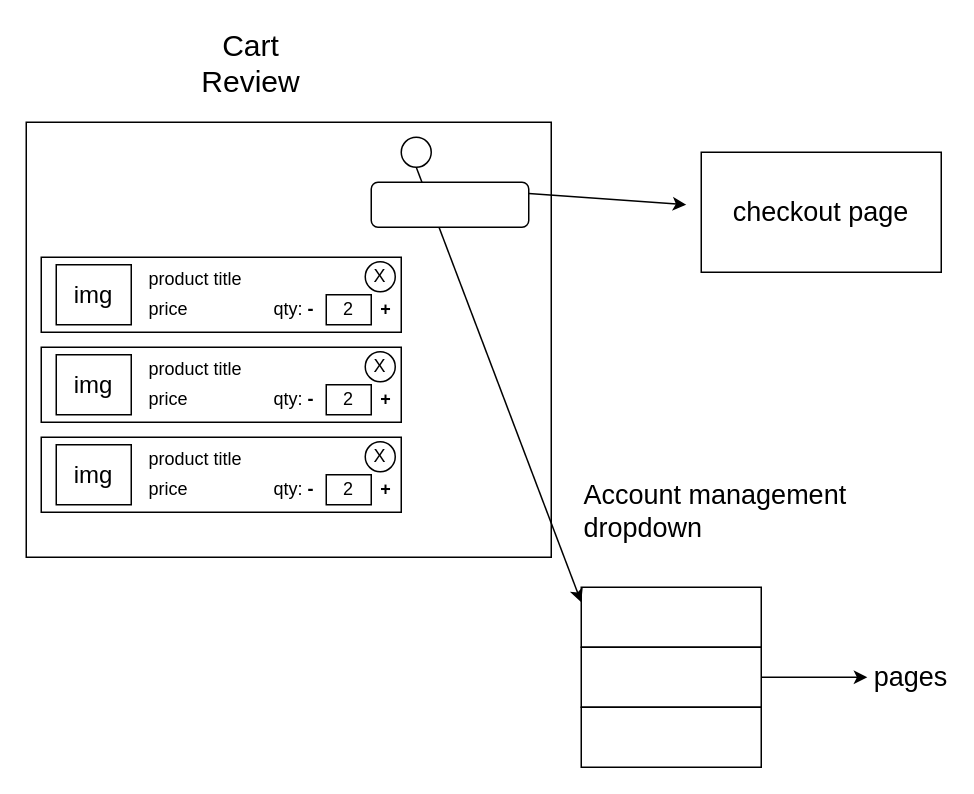
Some shapes in this 974 by 794 pixel diagram are drawn without their labels. Each missing label, with the box of its shape:
checkout: (370, 181, 529, 227)
order history: (580, 706, 761, 767)
payment methods: (580, 646, 761, 707)
profile: (580, 586, 761, 647)
